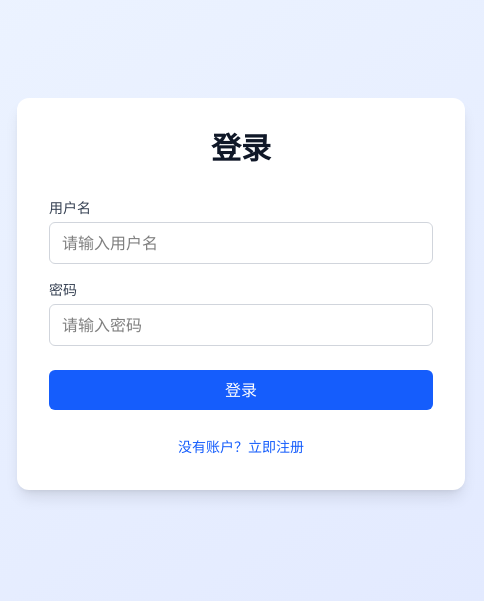
Test: AuthInterface 组件 › 应该能够切换到注册表单
Click register link
Click the button "没有账户？立即注册" at (241, 447), box [178,437,304,457]
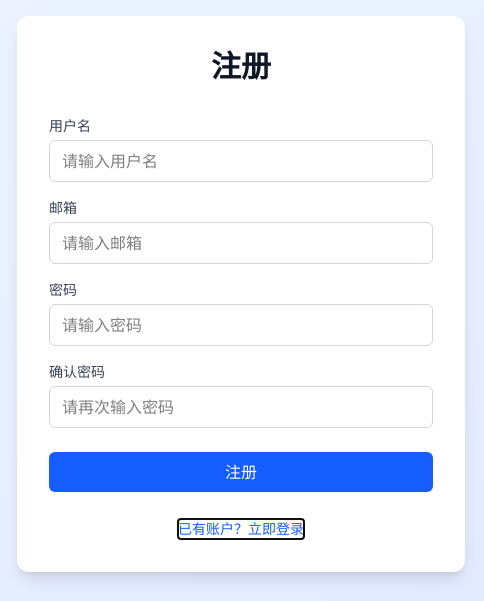
Check: the heading "注册" is shown, box [211,48,271,84]
